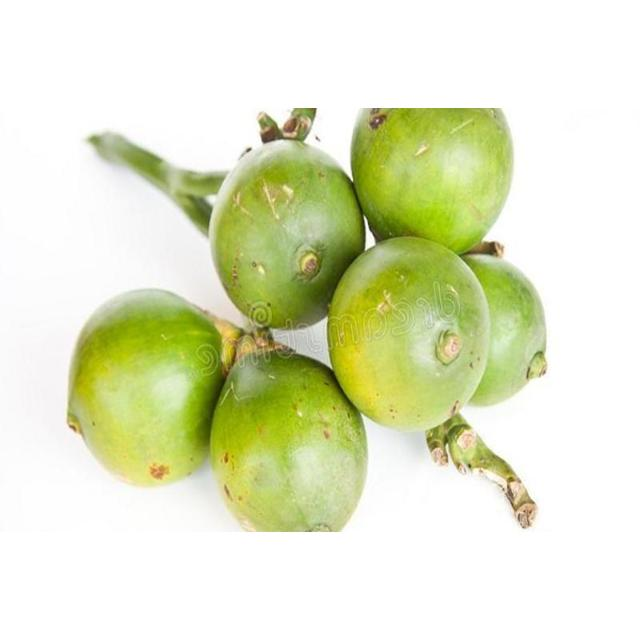good: (327, 235, 544, 474), (65, 289, 238, 490), (205, 138, 372, 332), (207, 334, 369, 532), (350, 108, 516, 256)
